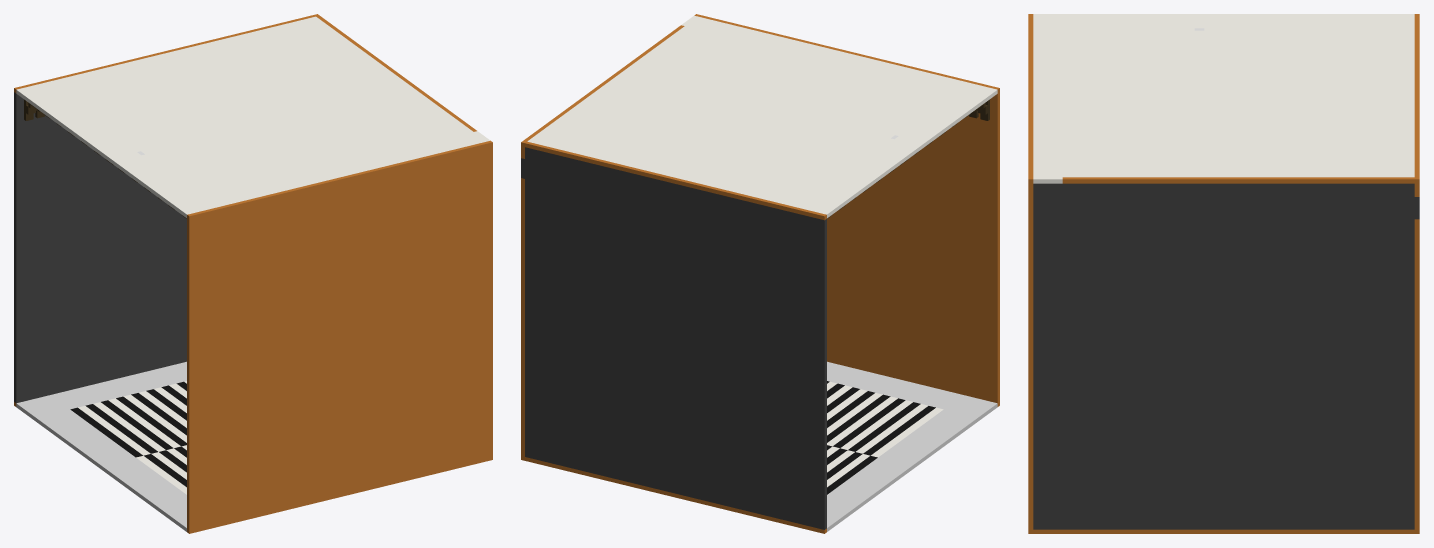
Rendered from room.obj.
3 renders of one model, left to right at view 1: azimuth 30°, elevation 25°; view 2: azimuth 150°, elevation 25°; view 3: azimuth 270°, elevation 25°, orthographic. The views are drawn at different scales.
Size of the model in its own units: 80 by 80 by 80.
Materials: 1 (1 with a texture image).
